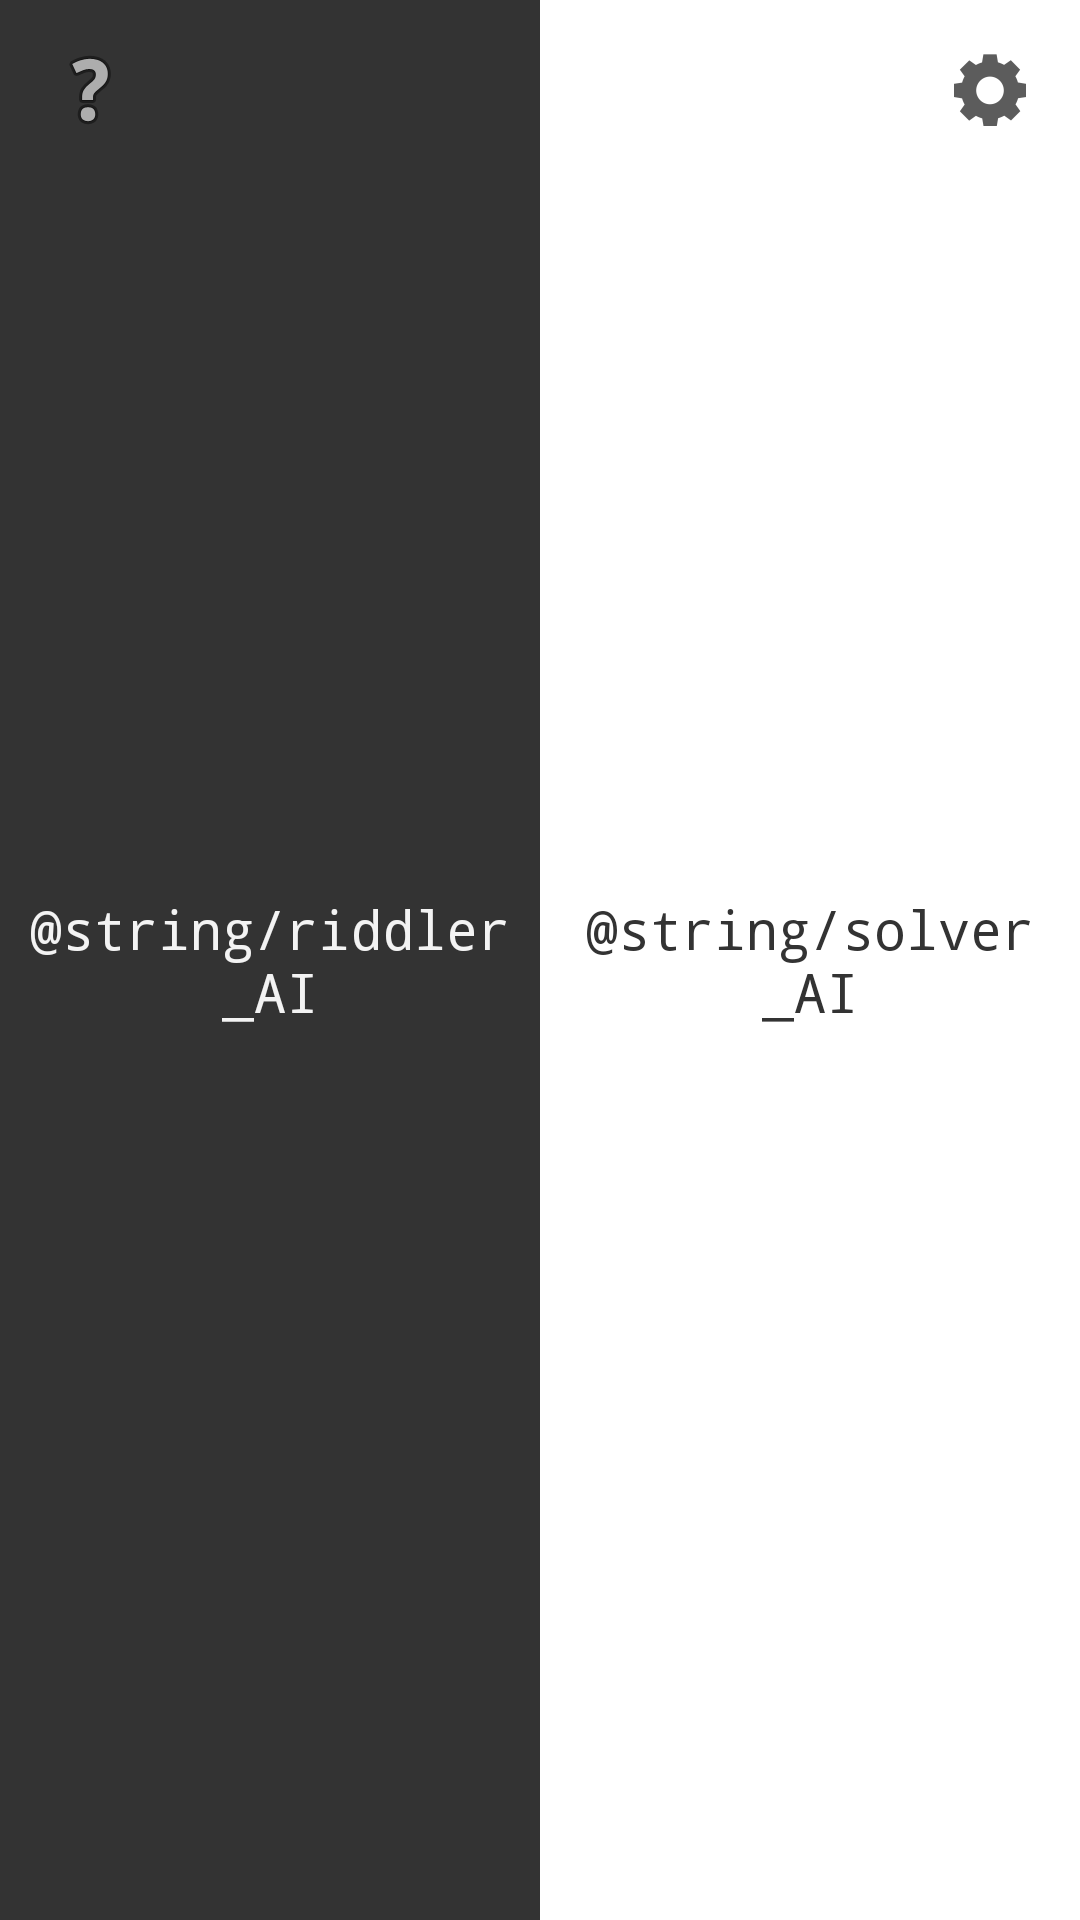

Screen size 1080*1920. Icon name, then its center in pixels as (x,y):
help: (90,90)
settings: (990,90)
